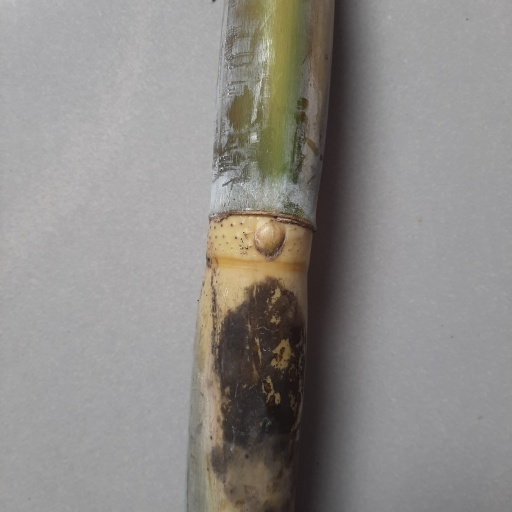Bud: (254, 219, 287, 258)
